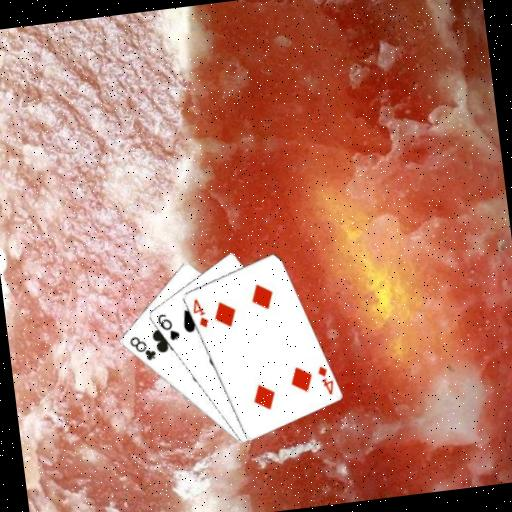4D: (188, 295, 211, 331), (314, 362, 336, 398)
6S: (153, 309, 182, 344)
8C: (126, 331, 158, 365)
